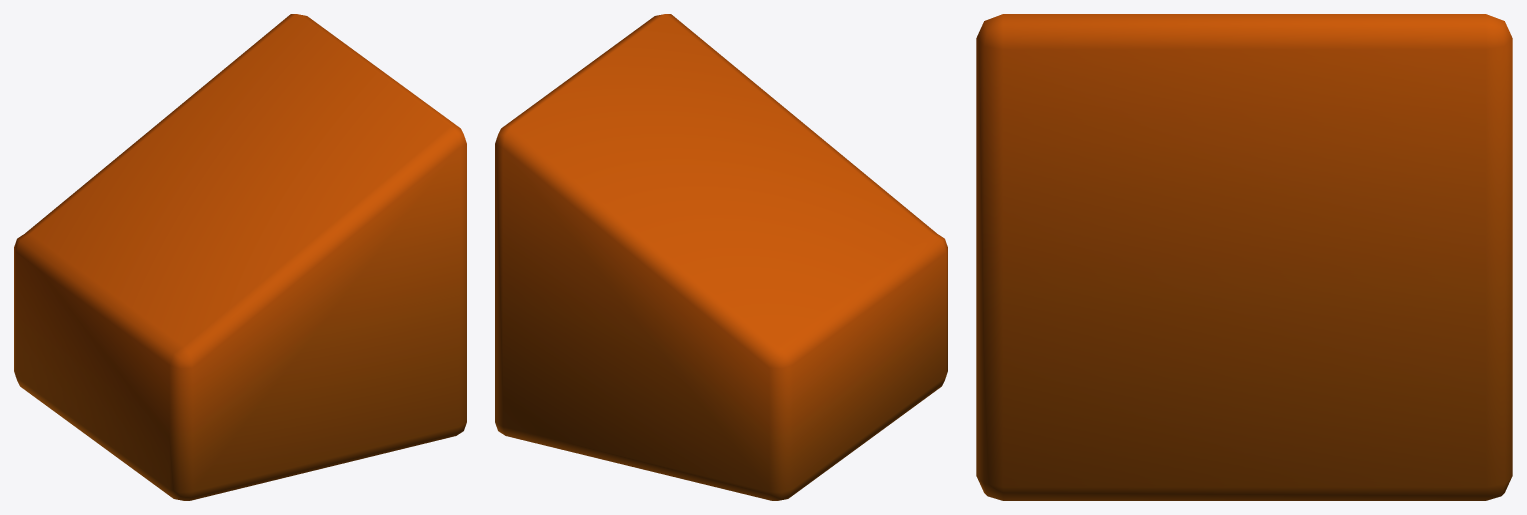
File: 3D_Tile_Ground_Slope_04A.glb
3 views of the same model, side by side, from view 1: azimuth 30°, elevation 25°; view 2: azimuth 150°, elevation 25°; view 3: azimuth 270°, elevation 25° (orthographic). The views are drawn at different scales.
Parts seen in each view (by area): view 1: 3D_Tile_Ground_Slope_04A; view 2: 3D_Tile_Ground_Slope_04A; view 3: 3D_Tile_Ground_Slope_04A.
Part boxes in pixels (box(x1,y1,x2,y2)): 3D_Tile_Ground_Slope_04A: box(14, 14, 466, 500); 3D_Tile_Ground_Slope_04A: box(495, 14, 947, 500); 3D_Tile_Ground_Slope_04A: box(976, 14, 1512, 500).
Bounding box in the file's own units: 2 × 2 × 2.
Materials: 1 (1 with a texture image).
